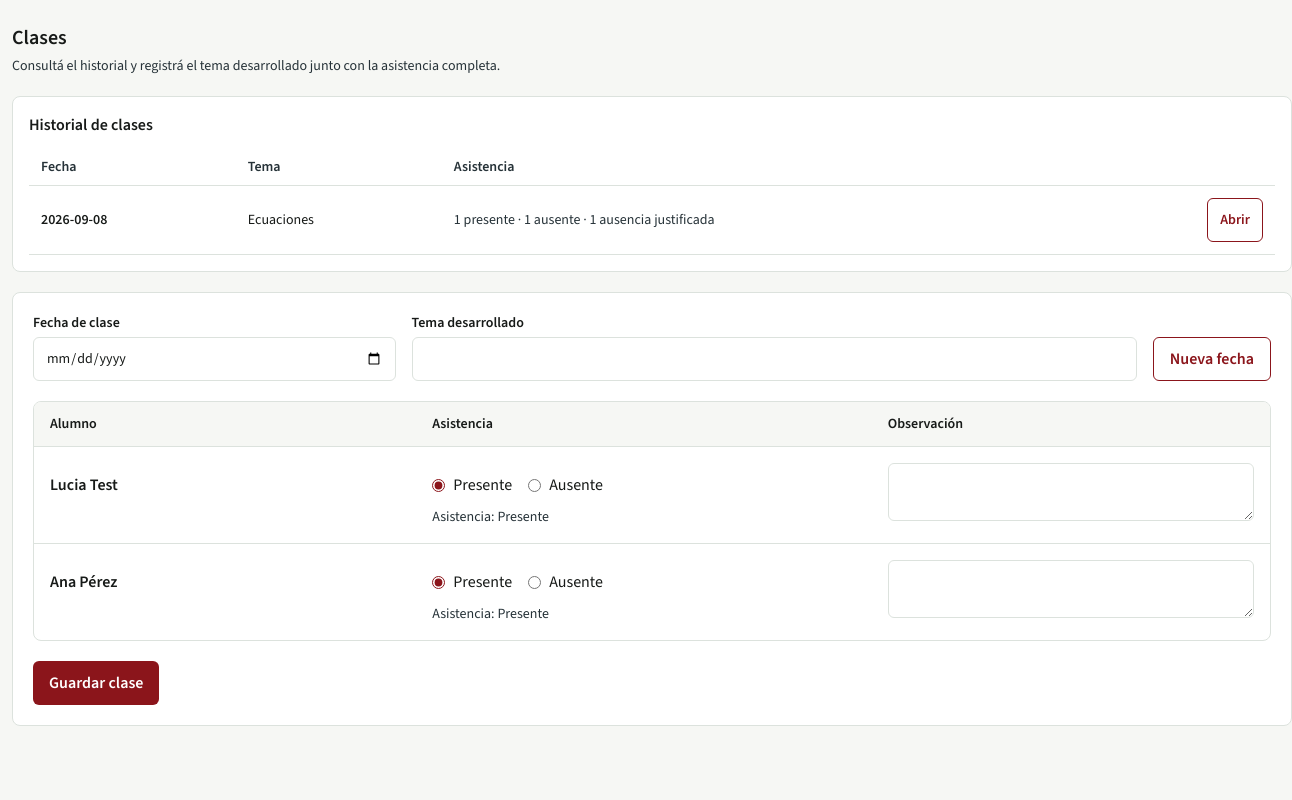
Test: ClassRegister › loads the history and precarga all attendance fields for an existing date
Check: the text "Ecuaciones" is shown, box [236, 186, 442, 254]
Step 1. Click the button with aria-label "Abrir 2026-09-08" → point(1235, 220), box [1207, 198, 1263, 242]
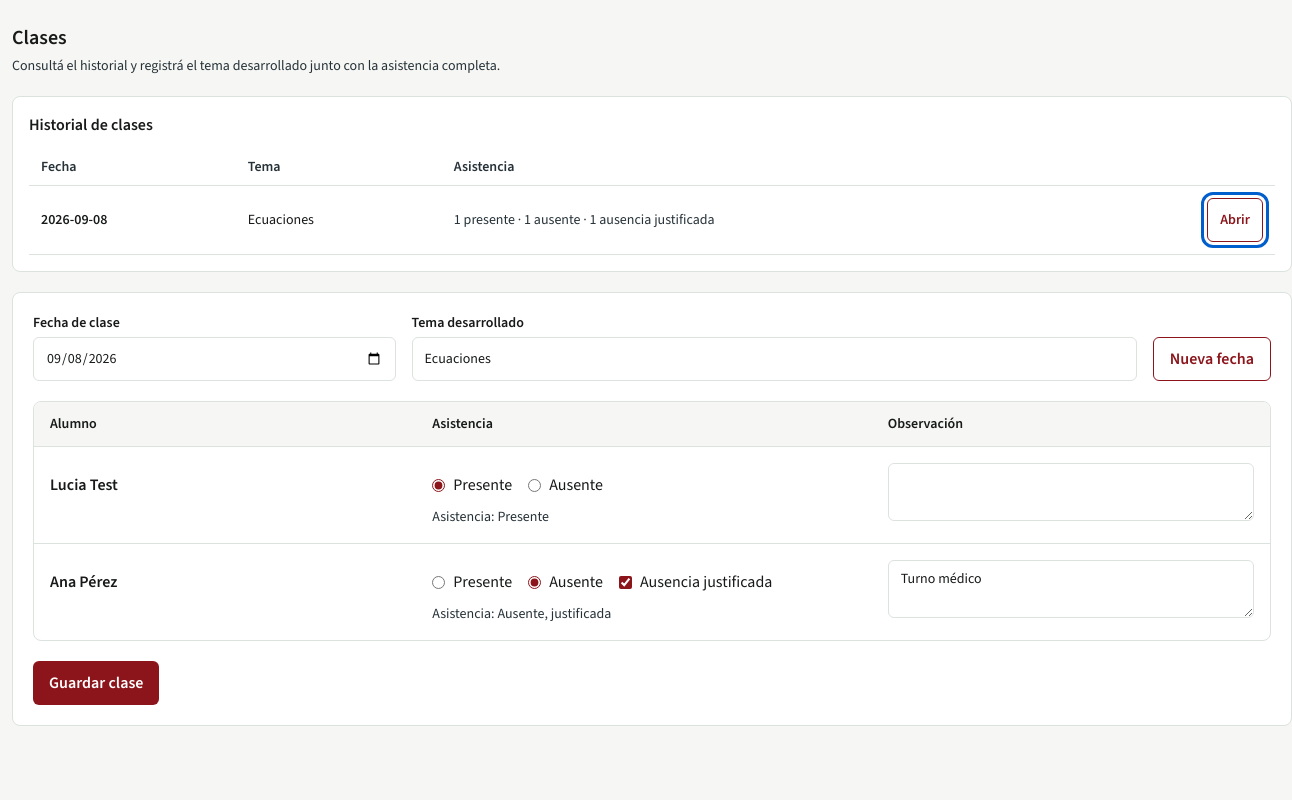
Check: the field labelled "Tema desarrollado" holds "Ecuaciones", box [412, 337, 1137, 381]
Check: the radio button labelled "Ausente" in the row of "Ana Pérez" is checked, box [528, 576, 541, 588]
Check: the checkbox labelled "Ausencia justificada" is checked, box [619, 576, 632, 588]
